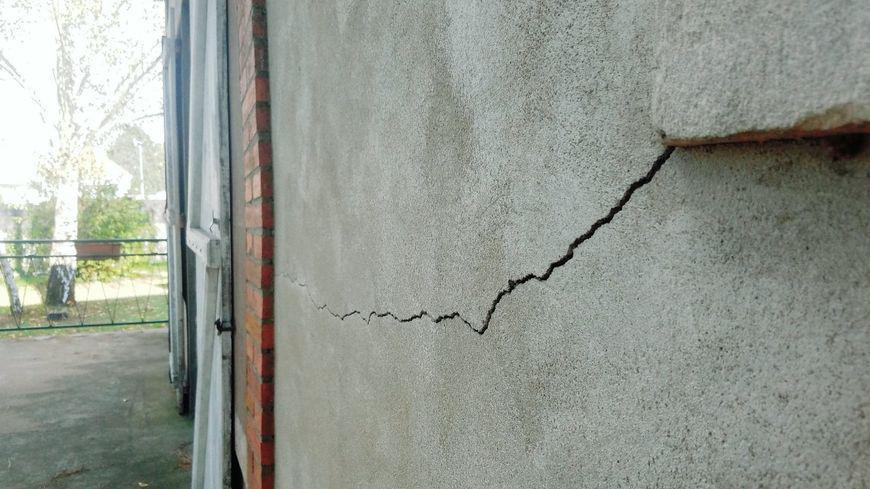crack: (287, 145, 677, 336)
